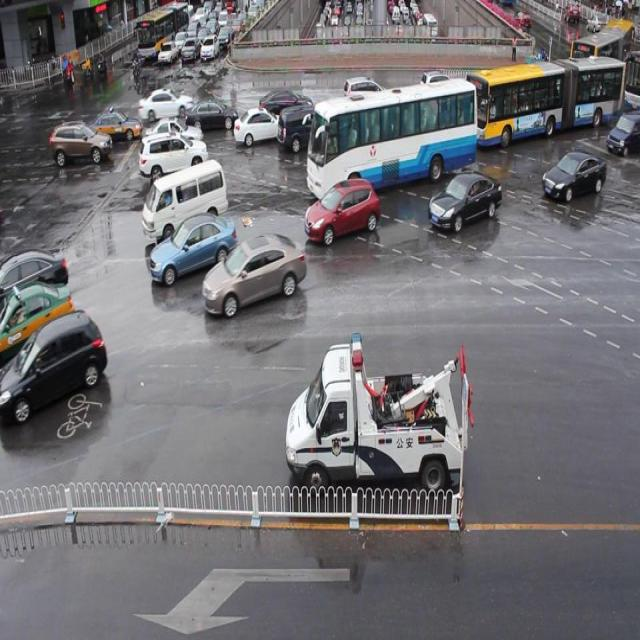bus: (286, 333, 474, 494)
car: (0, 308, 106, 422), (203, 235, 305, 312), (149, 214, 236, 284), (0, 282, 74, 364), (304, 179, 378, 241), (1, 250, 69, 311), (430, 175, 501, 228), (139, 134, 209, 178), (542, 152, 606, 198), (51, 119, 112, 163), (278, 106, 333, 148), (139, 88, 194, 121), (92, 107, 142, 142), (184, 98, 237, 131), (145, 120, 203, 150), (234, 109, 284, 143), (344, 77, 389, 114), (342, 95, 386, 131), (606, 112, 640, 156), (258, 89, 311, 117), (420, 91, 455, 129), (420, 72, 456, 103), (444, 82, 477, 115), (472, 75, 504, 106)
truck: (143, 165, 228, 237)
van: (306, 80, 478, 193), (468, 55, 623, 139)
